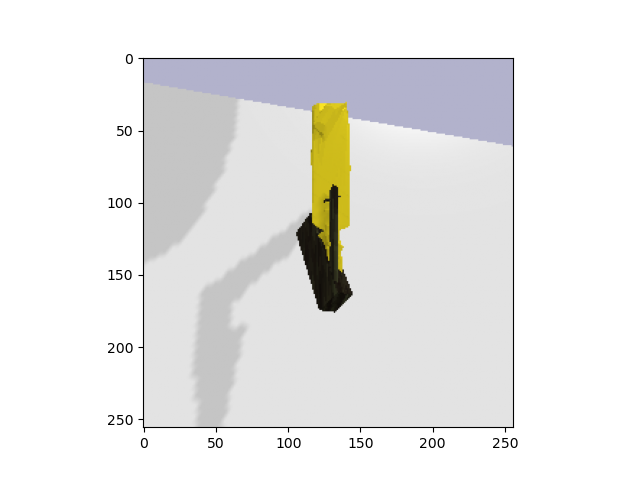v249b387_108: (297, 102, 362, 267)
v249b387_109: (289, 218, 356, 318)
